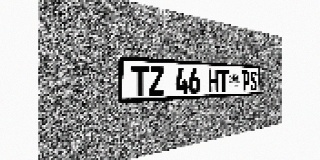4: (175, 67, 188, 94)
6: (189, 68, 201, 94)
H: (208, 69, 219, 93)
P: (242, 70, 250, 91)
S: (250, 71, 257, 91)
T: (131, 66, 148, 97), (219, 69, 228, 92)
Z: (149, 66, 164, 96)
